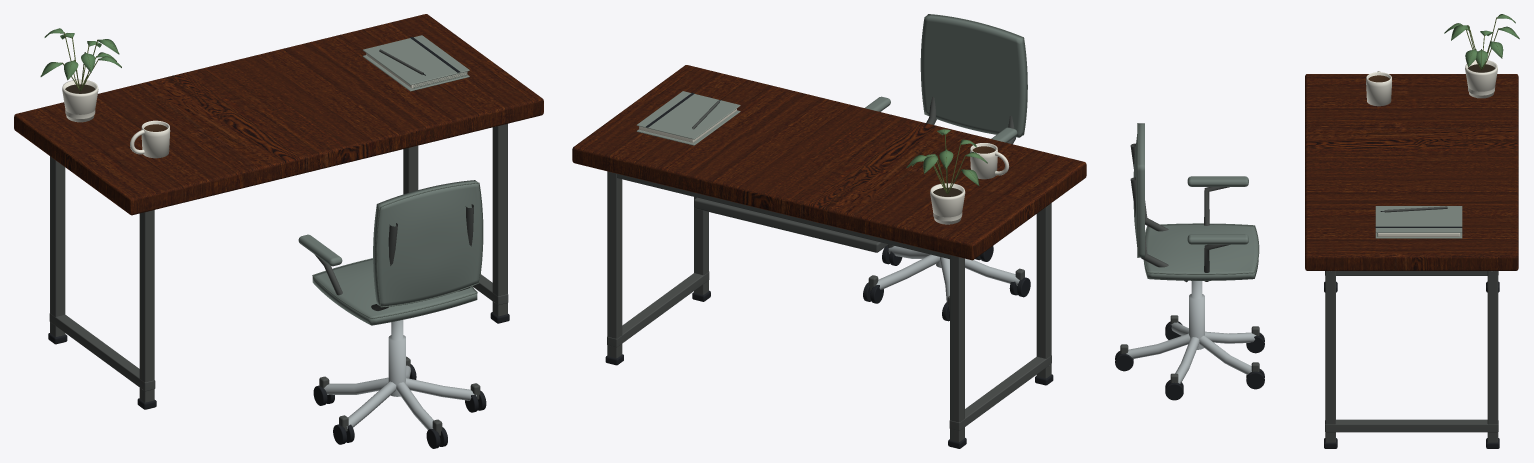
The model's file is studio-furniture.glb.
3 renders of one model, left to right at view 1: azimuth 30°, elevation 25°; view 2: azimuth 150°, elevation 25°; view 3: azimuth 270°, elevation 25°, orthographic. The views are drawn at different scales.
Parts seen in each view (by area): view 1: Walnut desktop with eased edge, Contoured backrest, Contoured seat, Welded upright.001, Welded upright.003, Linen notebook cover.001, Welded upright, Lower rail, Planter, Gas lift, Porcelain mug, Cast aluminum spoke.001 (+6 smaller); view 2: Walnut desktop with eased edge, Contoured backrest, Welded upright.002, Welded upright, Linen notebook cover.001, Welded upright.001, Cable tray, Rear support rail, Lower rail.001, Lower rail, Welded upright.003, Planter (+3 smaller); view 3: Walnut desktop with eased edge, Contoured seat, Lower rail.001, Linen notebook cover.001, Welded upright.002, Welded upright.003, Contoured backrest, Gas lift, Planter, Lower rail, Porcelain mug, Cast aluminum spoke (+5 smaller).
Boxes of the visible parts, box(x1,y1,x2,y2) form: Walnut desktop with eased edge: box(14, 14, 543, 215); Contoured backrest: box(373, 180, 482, 306); Contoured seat: box(312, 259, 477, 325); Welded upright.001: box(139, 210, 154, 402); Welded upright.003: box(492, 124, 507, 316); Linen notebook cover.001: box(363, 35, 469, 85); Welded upright: box(50, 156, 65, 336); Lower rail: box(49, 313, 155, 391); Planter: box(62, 79, 98, 122); Gas lift: box(388, 320, 405, 396); Porcelain mug: box(141, 120, 170, 158); Cast aluminum spoke.001: box(405, 378, 476, 400); Walnut desktop with eased edge: box(572, 65, 1086, 260); Contoured backrest: box(920, 14, 1026, 137); Welded upright.002: box(607, 171, 622, 358); Welded upright: box(950, 255, 964, 441); Linen notebook cover.001: box(636, 91, 740, 139); Welded upright.001: box(1036, 203, 1051, 378); Cable tray: box(694, 197, 888, 252); Rear support rail: box(617, 173, 949, 259); Lower rail.001: box(607, 271, 709, 347); Lower rail: box(949, 355, 1051, 430); Welded upright.003: box(694, 197, 708, 294); Planter: box(930, 183, 965, 224); Walnut desktop with eased edge: box(1305, 74, 1518, 270); Contoured seat: box(1143, 224, 1258, 280); Lower rail.001: box(1325, 419, 1498, 432); Linen notebook cover.001: box(1375, 206, 1462, 232); Welded upright.002: box(1487, 271, 1498, 442); Welded upright.003: box(1325, 271, 1335, 442); Contoured backrest: box(1133, 123, 1144, 257); Gas lift: box(1189, 281, 1204, 349); Planter: box(1465, 60, 1497, 98); Lower rail: box(1325, 271, 1498, 275); Porcelain mug: box(1366, 72, 1392, 106); Cast aluminum spoke: box(1126, 333, 1190, 358).
Size of the model in its own units: 3.05 by 2.16 by 2.84.
13 materials, 1 textured.
